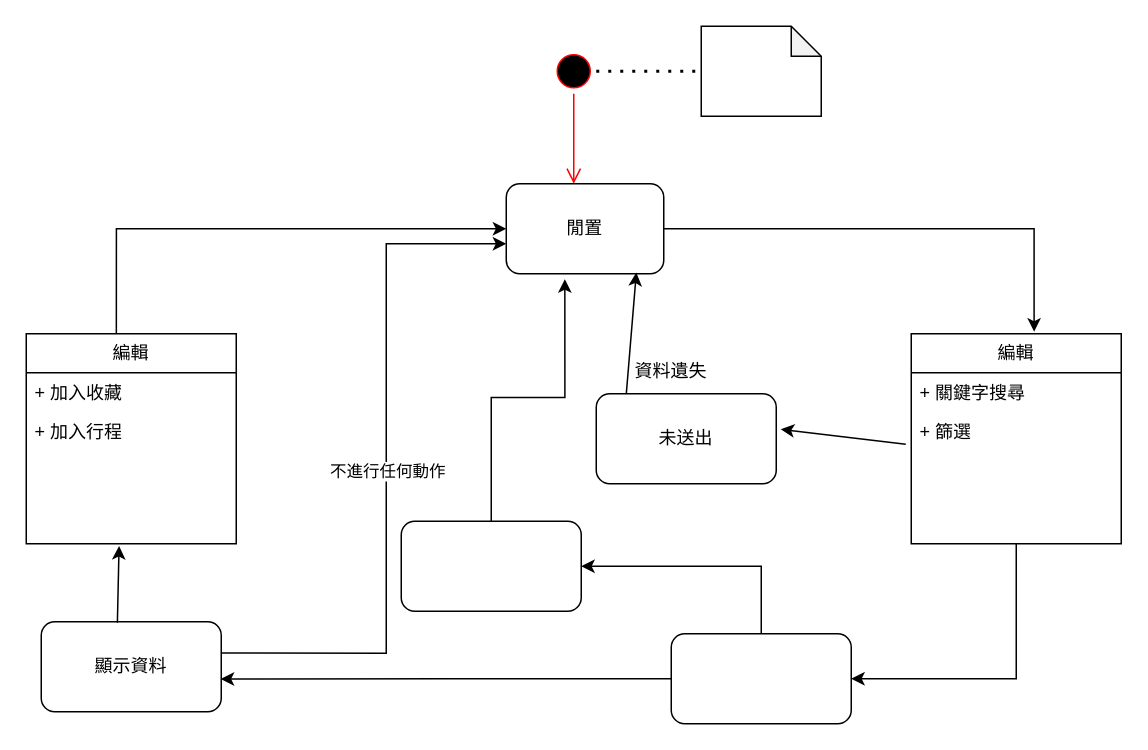
This 1148x750 diagram has some shape labels left out. Each missing label, with the box of its shape:
成功送出: (670, 632, 851, 724)
搜尋: (700, 25, 821, 116)
查無資料: (400, 520, 581, 611)
